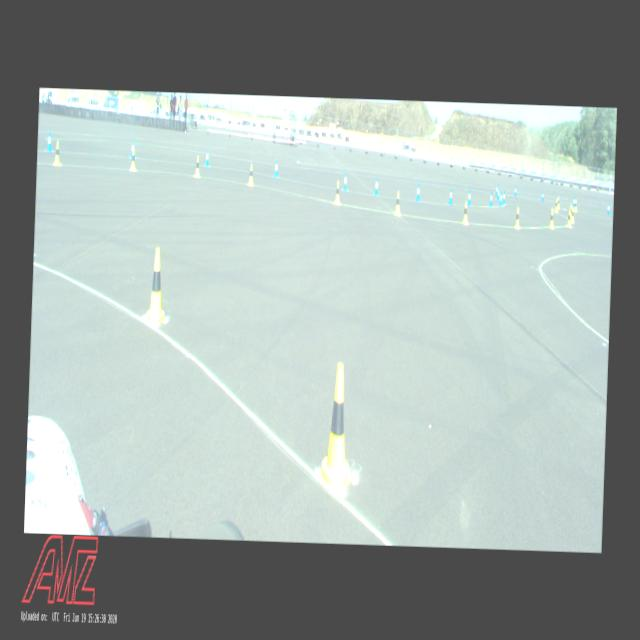blue_cone: (46, 132, 52, 152), (342, 171, 348, 191), (204, 148, 210, 166), (466, 188, 472, 206), (415, 184, 420, 202), (130, 140, 135, 158), (448, 187, 453, 205), (374, 177, 378, 196), (274, 159, 278, 177), (488, 190, 492, 207), (606, 203, 610, 214), (540, 190, 544, 201), (499, 192, 502, 206), (502, 190, 505, 203), (497, 187, 499, 200), (514, 185, 516, 196), (496, 184, 498, 195), (572, 197, 574, 208)
yellow_cone: (318, 362, 356, 492), (144, 247, 168, 326), (52, 140, 61, 166), (394, 190, 401, 215), (462, 201, 469, 224), (248, 163, 254, 186), (514, 207, 520, 230), (334, 180, 340, 203), (194, 156, 200, 178), (130, 148, 136, 170), (548, 208, 554, 228), (566, 208, 572, 225), (570, 206, 575, 224), (554, 197, 558, 212), (569, 201, 572, 219), (556, 196, 560, 208), (573, 198, 576, 211)
